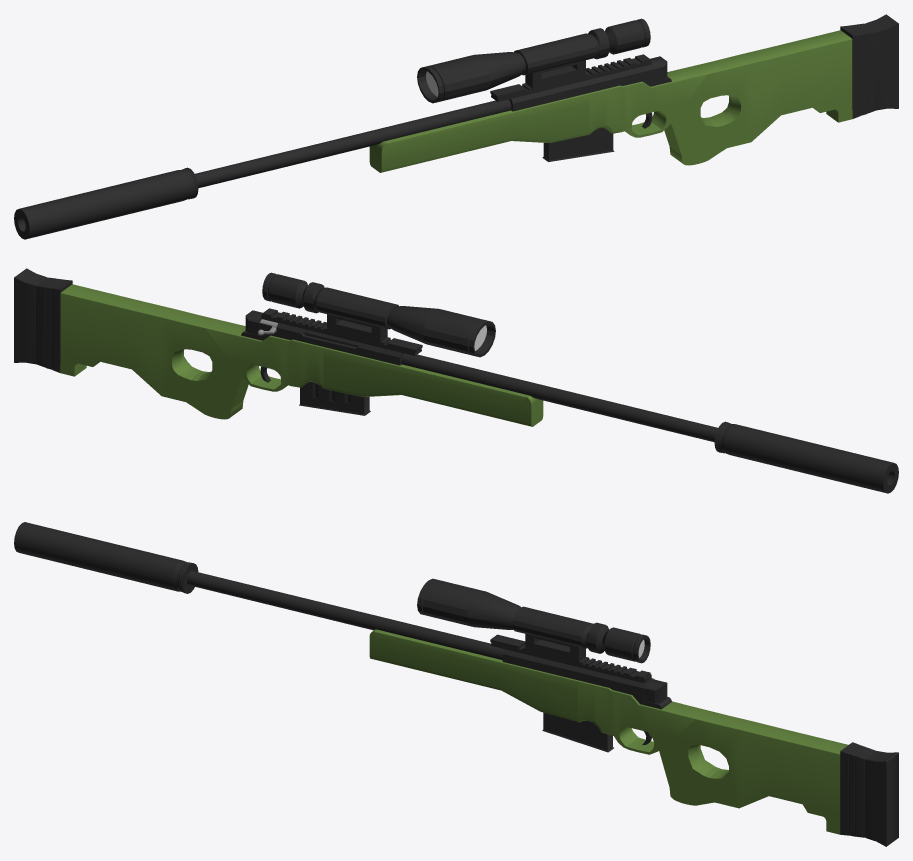
The model's file is sniper_final.fbx.
The picture shows the model from 3 angles, top to bottom: view 1: azimuth 30°, elevation 25°; view 2: azimuth 150°, elevation 25°; view 3: azimuth 330°, elevation 25°; orthographic projection.
Parts seen in each view (by area): view 1: sniper, scope, supressor, mag; view 2: sniper, scope, supressor, mag; view 3: sniper, scope, supressor, mag.
Part boxes in pixels (x1,y1,x2,y2): sniper: [195, 14, 898, 188]; scope: [417, 18, 650, 103]; supressor: [14, 167, 198, 239]; mag: [542, 128, 614, 161]; sniper: [14, 268, 717, 442]; scope: [262, 272, 495, 357]; supressor: [714, 421, 898, 493]; mag: [299, 382, 370, 415]; sniper: [187, 571, 898, 846]; scope: [417, 578, 650, 663]; supressor: [14, 522, 198, 593]; mag: [542, 712, 613, 752].
Bounding box in the file's own units: 498 × 84.65 × 22.5.
